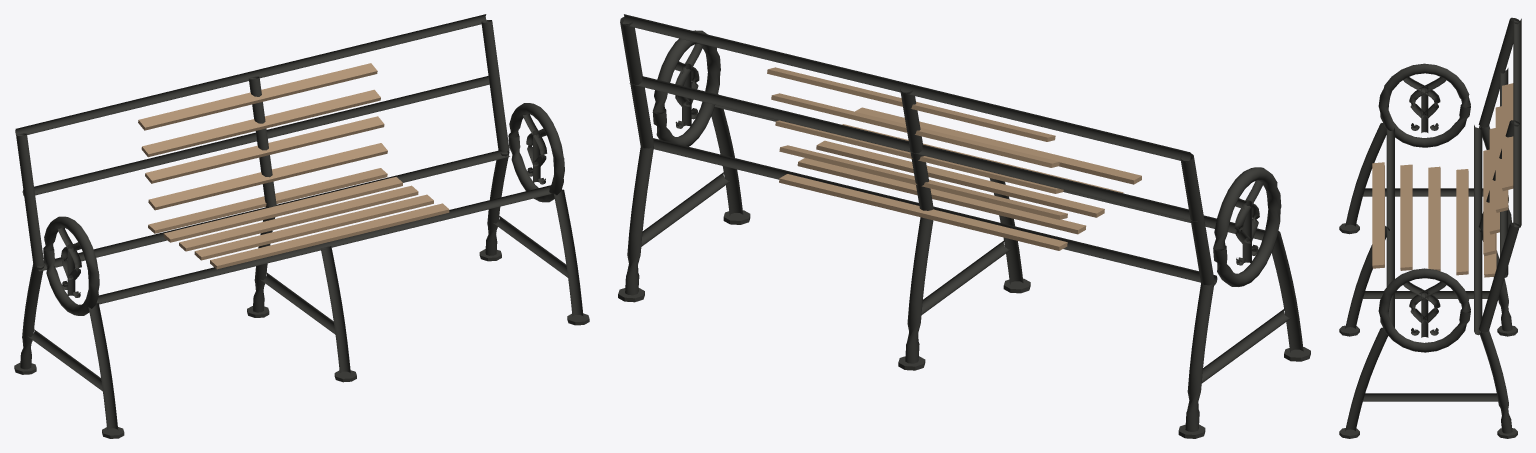
File: cp_bench.glb
3 views of the same model, side by side, from view 1: azimuth 30°, elevation 25°; view 2: azimuth 150°, elevation 25°; view 3: azimuth 270°, elevation 25° (orthographic). The views are drawn at different scales.
Parts seen in each view (by area): view 1: ParkFurn_Bench_CP; view 2: ParkFurn_Bench_CP; view 3: ParkFurn_Bench_CP.
Part boxes in pixels (x1,y1,x2,y2): ParkFurn_Bench_CP: [14, 14, 589, 438]; ParkFurn_Bench_CP: [618, 14, 1310, 438]; ParkFurn_Bench_CP: [1339, 17, 1521, 438].
Bounding box in the file's own units: 1.85 × 0.8689 × 0.6665.
